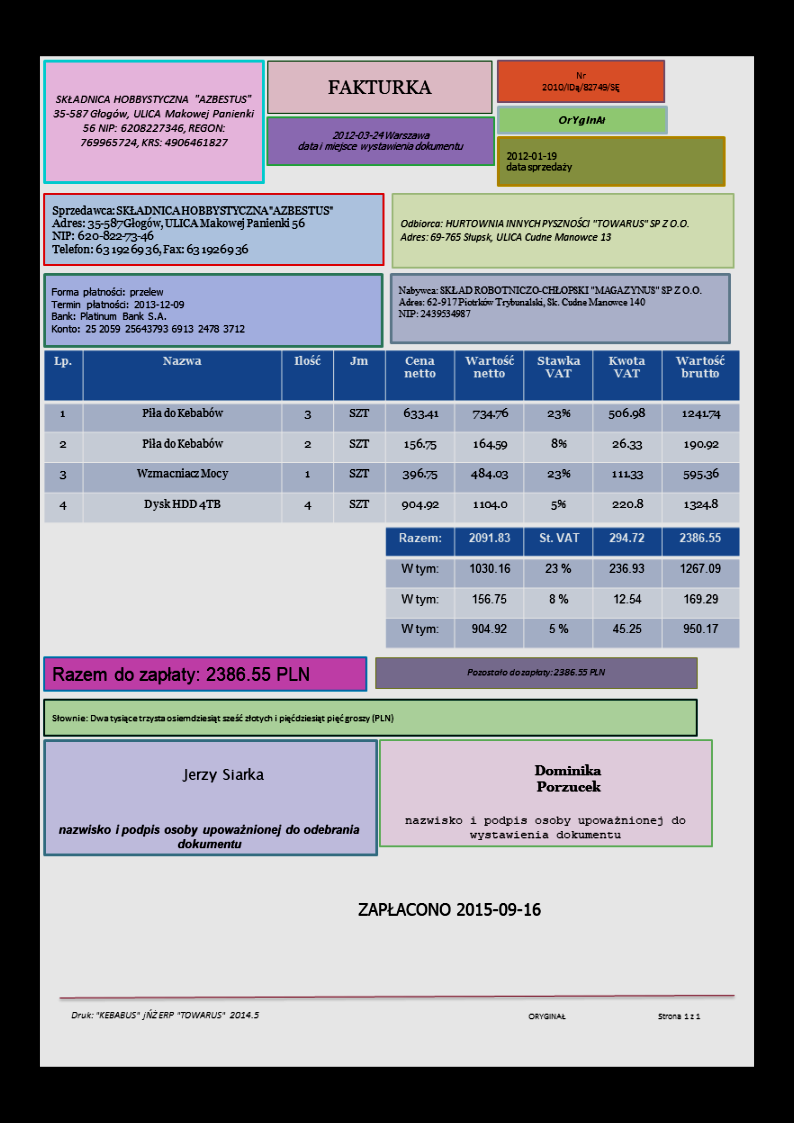Table: (42, 348, 742, 524), (384, 524, 741, 650)
TextBox: (49, 200, 338, 260), (50, 90, 258, 151), (395, 281, 704, 321), (49, 283, 248, 338), (402, 811, 690, 842), (57, 822, 363, 851), (398, 215, 691, 245), (50, 710, 397, 727), (51, 663, 311, 684), (294, 127, 466, 154), (356, 899, 546, 918), (69, 1007, 263, 1023), (525, 1008, 704, 1024), (531, 760, 606, 797), (325, 76, 432, 98), (538, 68, 622, 95), (464, 665, 608, 680), (177, 764, 267, 786), (504, 147, 573, 175), (555, 110, 608, 128)
